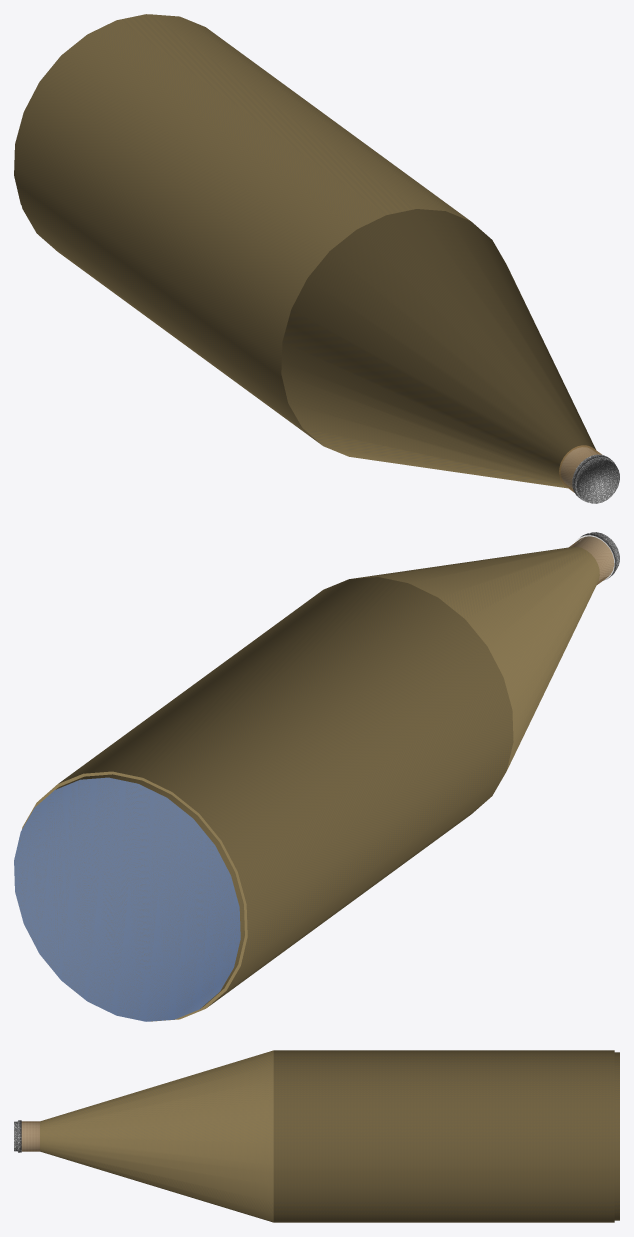
File: model_scale.obj
3 renders of one model, top to bottom at view 1: azimuth 30°, elevation 25°; view 2: azimuth 150°, elevation 25°; view 3: azimuth 270°, elevation 25°, orthographic. The views are drawn at different scales.
Visible parts, largest first — view 1: mesh2_mesh2-geometry, mesh3_mesh3-geometry; view 2: mesh2_mesh2-geometry, mesh3_mesh3-geometry; view 3: mesh2_mesh2-geometry, mesh3_mesh3-geometry.
Boxes of the visible parts, box(x1,y1,x2,y2) form: mesh2_mesh2-geometry: box(14, 14, 596, 488); mesh3_mesh3-geometry: box(559, 445, 619, 503); mesh2_mesh2-geometry: box(14, 546, 599, 1021); mesh3_mesh3-geometry: box(569, 532, 619, 585); mesh2_mesh2-geometry: box(40, 1050, 619, 1222); mesh3_mesh3-geometry: box(14, 1120, 39, 1152).
Size of the model in its own units: 0.068 by 0.068 by 0.2399.
